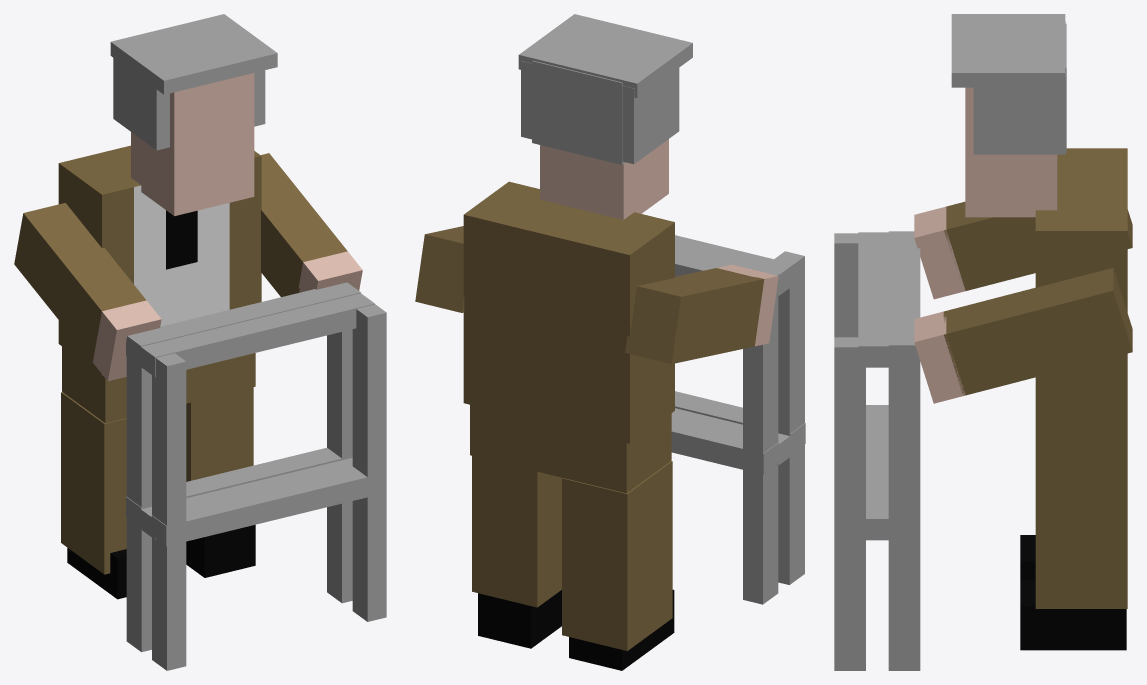
File: Elderly2.fbx
3 views of the same model, side by side, from view 1: azimuth 30°, elevation 25°; view 2: azimuth 150°, elevation 25°; view 3: azimuth 270°, elevation 25° (orthographic). The views are drawn at different scales.
Parts seen in each view (by area): view 1: pCube20, pCube11, pCube8, pCube27, pCube25, pCube3, pCube17, pCube26, pCube28, pCube22, pCube21, pCube4 (+8 smaller); view 2: pCube11, pCube3, pCube20, pCube4, pCube5, pCube22, pCube17, pCube27, pCube16, pCube8, pCube19, pCube1 (+7 smaller); view 3: pCube20, pCube11, pCube4, pCube21, pCube25, pCube17, pCube8, pCube18, pCube1, pCube5, pCube28, pCube23 (+3 smaller).
Boxes of the visible parts, x1,y1,x2,y2 form: pCube20: (14, 153, 362, 381); pCube11: (58, 145, 261, 375); pCube8: (131, 73, 254, 216); pCube27: (152, 353, 186, 670); pCube25: (352, 304, 386, 621); pCube3: (61, 392, 126, 574); pCube17: (110, 14, 277, 94); pCube26: (151, 466, 386, 546); pCube28: (140, 293, 374, 377); pCube22: (126, 356, 151, 652); pCube21: (327, 329, 352, 603); pCube4: (186, 367, 253, 481); pCube11: (463, 181, 674, 443); pCube3: (562, 461, 672, 650); pCube20: (415, 226, 778, 364); pCube4: (472, 436, 562, 607); pCube5: (470, 385, 671, 493); pCube22: (743, 296, 778, 604); pCube17: (518, 14, 692, 98); pCube27: (774, 251, 804, 584); pCube16: (532, 60, 624, 164); pCube8: (540, 139, 668, 219); pCube19: (622, 68, 679, 164); pCube1: (478, 590, 561, 648); pCube20: (914, 201, 1132, 403); pCube11: (1035, 148, 1127, 422); pCube4: (1035, 471, 1127, 608); pCube21: (888, 347, 920, 670); pCube25: (834, 337, 865, 670); pCube17: (951, 14, 1065, 87); pCube8: (965, 87, 1057, 217); pCube18: (973, 72, 1065, 154); pCube1: (1020, 580, 1126, 650); pCube5: (1035, 423, 1127, 471); pCube28: (858, 232, 888, 367); pCube23: (888, 231, 920, 347).
Size of the model in its own units: 3.27 by 6.85 by 3.24.
